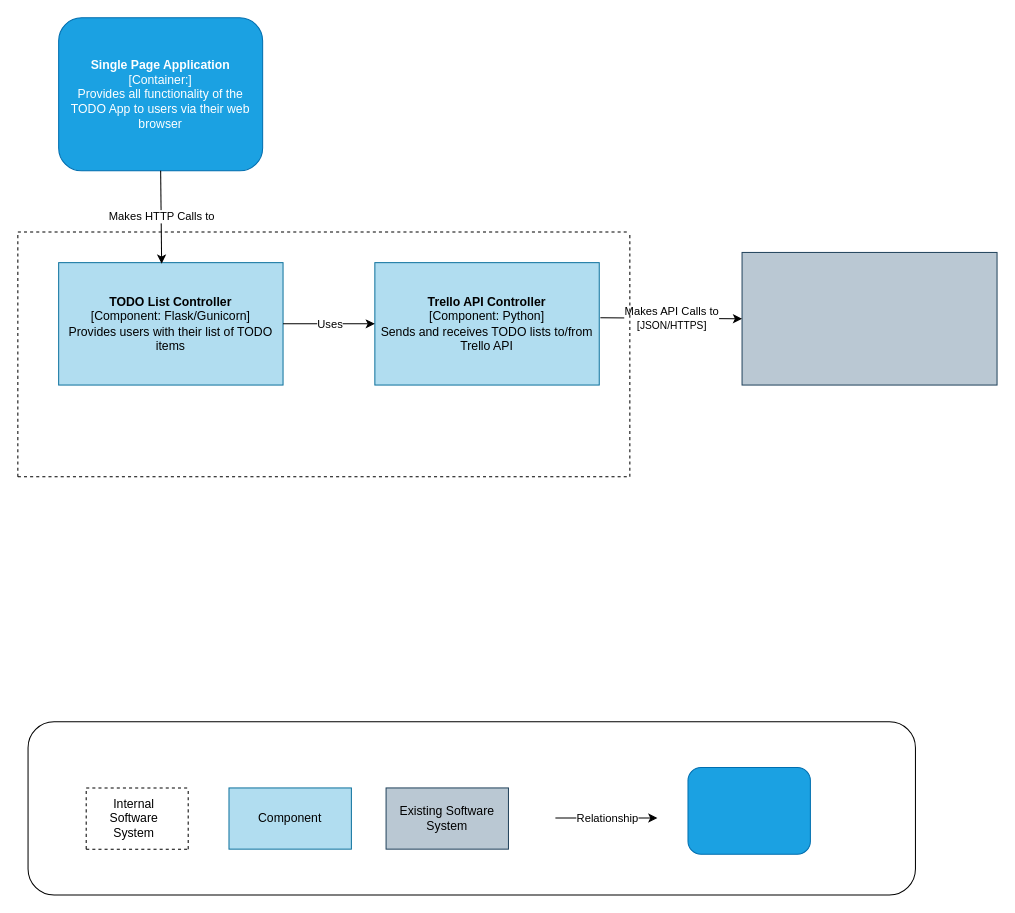
The diagram is 1015 pixels wide and 913 high, and some of its shapes have lost their labels. The centre of each missing label's shape, as x and y in pixels:
Containr, Web Browser: (x=748, y=810)
Trello API [Software System] REST API System to store TODO lists: (x=869, y=318)
